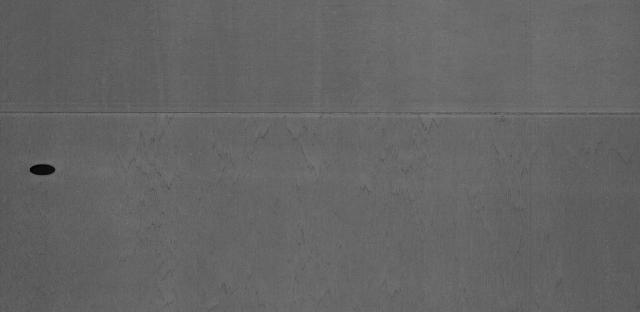punching_hole: (26, 161, 60, 181)
silk_spot: (113, 125, 624, 306)
welding_line: (2, 102, 638, 122)
